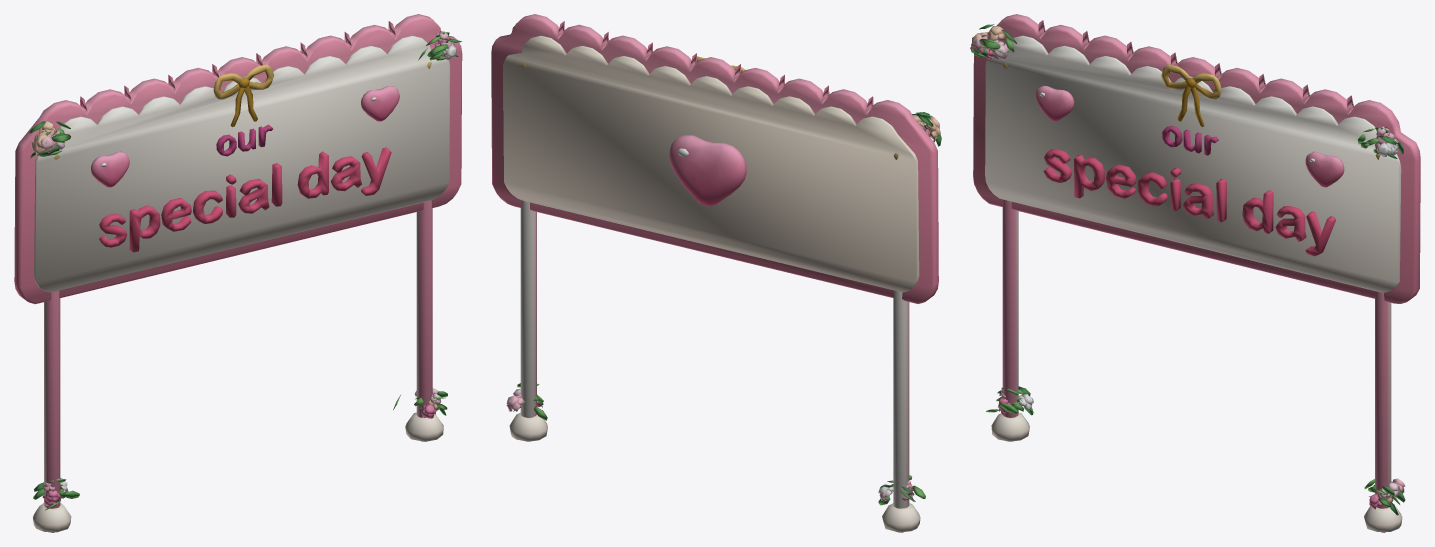
File: prp_anniv_sign_day.glb
3 renders of one model, left to right at view 1: azimuth 30°, elevation 25°; view 2: azimuth 150°, elevation 25°; view 3: azimuth 330°, elevation 25°, orthographic.
Visible parts, largest first — view 1: INST_prp_anniv_sign_day_sign_day; view 2: INST_prp_anniv_sign_day_sign_day; view 3: INST_prp_anniv_sign_day_sign_day.
Part boxes in pixels (bbox=[...]): INST_prp_anniv_sign_day_sign_day: bbox=[14, 14, 462, 532]; INST_prp_anniv_sign_day_sign_day: bbox=[491, 14, 941, 532]; INST_prp_anniv_sign_day_sign_day: bbox=[970, 14, 1420, 532].
Size of the model in its own units: 4.77 by 4.38 by 0.6115.
